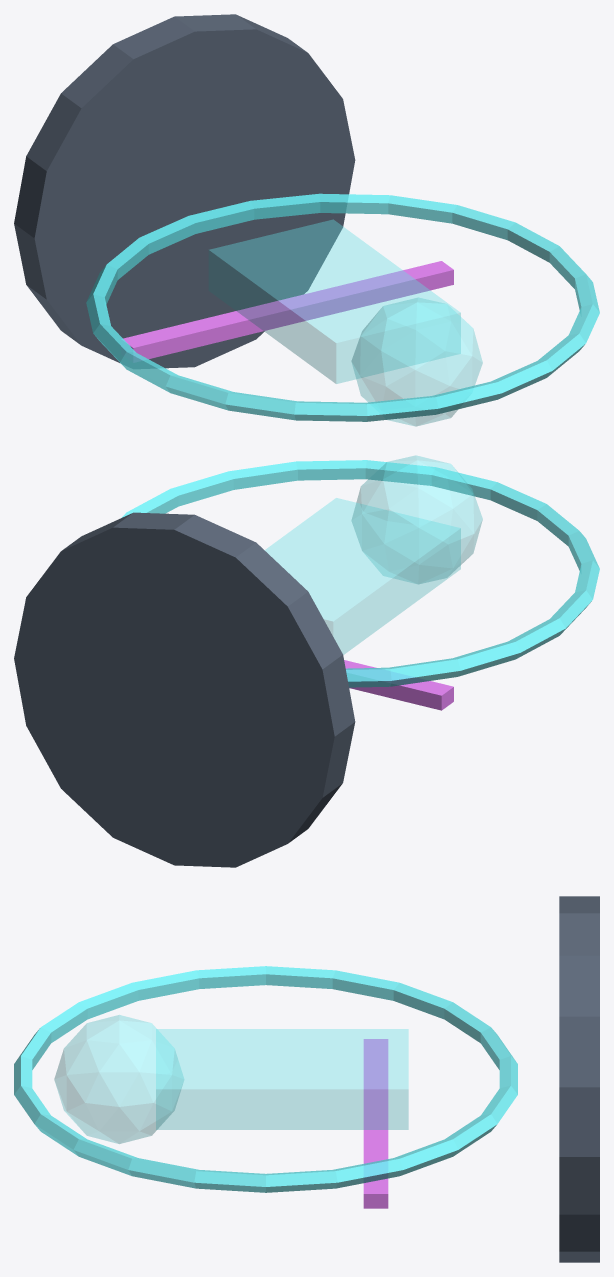
The model's file is 07_support_npc_aura.glb.
3 views of the same model, one above another, from view 1: azimuth 30°, elevation 25°; view 2: azimuth 150°, elevation 25°; view 3: azimuth 270°, elevation 25° (orthographic).
Visible parts, largest first — view 1: npc_support_base, support_holo_body, ally_command_ring, support_holo_head, assist_beam_marker; view 2: npc_support_base, support_holo_body, ally_command_ring, support_holo_head, assist_beam_marker; view 3: support_holo_body, ally_command_ring, npc_support_base, support_holo_head, assist_beam_marker.
Part boxes in pixels (left/top/right/bottom): npc_support_base: left=14, top=14, right=355, bottom=368; support_holo_body: left=209, top=219, right=460, bottom=383; ally_command_ring: left=86, top=193, right=599, bottom=421; support_holo_head: left=351, top=297, right=482, bottom=426; assist_beam_marker: left=121, top=261, right=453, bottom=362; npc_support_base: left=14, top=512, right=355, bottom=867; support_holo_body: left=265, top=498, right=460, bottom=654; ally_command_ring: left=121, top=460, right=599, bottom=687; support_holo_head: left=352, top=455, right=482, bottom=583; assist_beam_marker: left=344, top=660, right=453, bottom=710; support_holo_body: left=156, top=1029, right=408, bottom=1129; ally_command_ring: left=14, top=966, right=517, bottom=1192; npc_support_base: left=559, top=896, right=599, bottom=1262; support_holo_head: left=54, top=1015, right=183, bottom=1143; assist_beam_marker: left=363, top=1039, right=388, bottom=1208.
Bounding box in the file's own units: 1.25 × 0.9 × 1.44.
